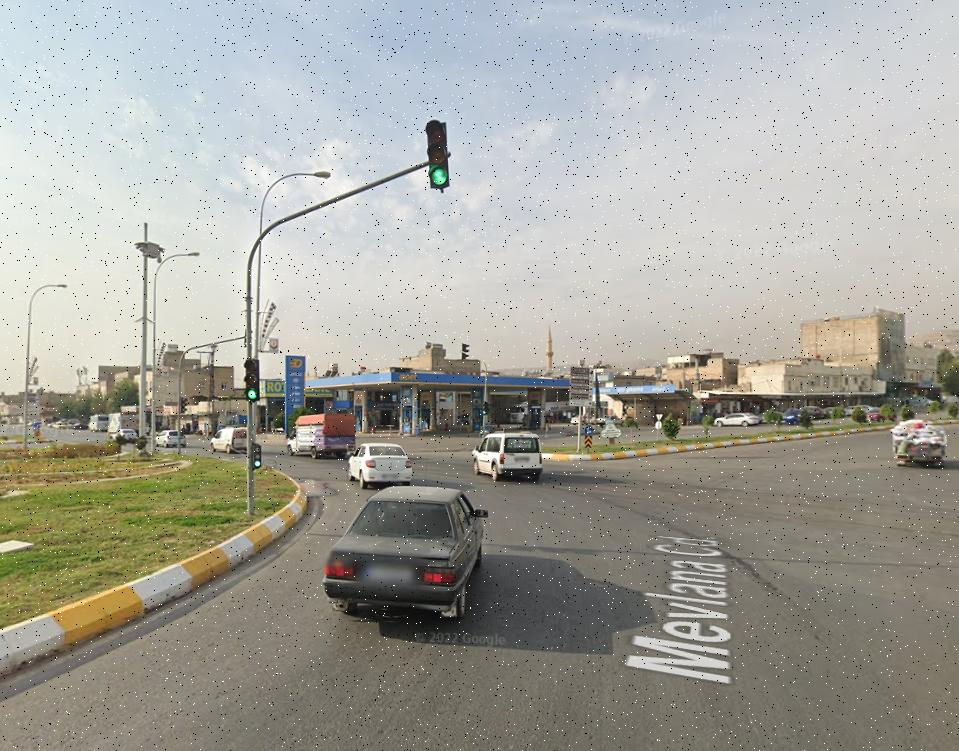greenlight: (244, 359, 261, 398), (251, 442, 263, 469)
